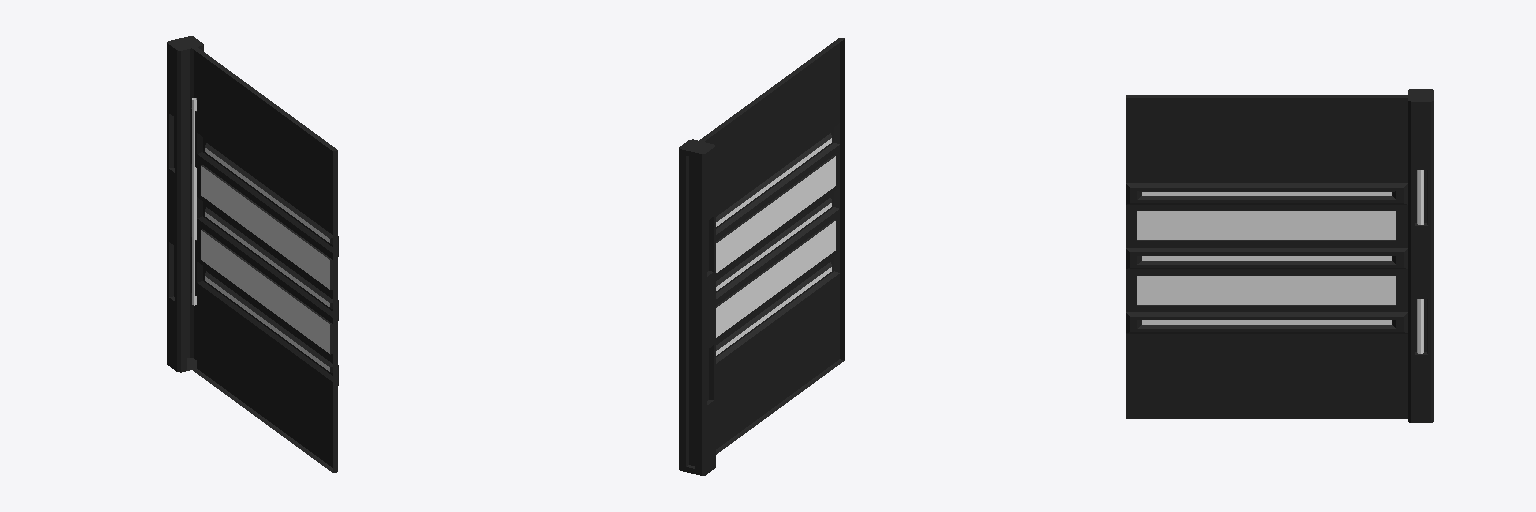
The model's file is Puertaizq.obj.
3 views of the same model, side by side, from view 1: azimuth 30°, elevation 25°; view 2: azimuth 150°, elevation 25°; view 3: azimuth 270°, elevation 25° (orthographic).
Visible parts, largest first — view 1: polySurface541; view 2: polySurface541; view 3: polySurface541.
Boxes of the visible parts, box(x1,y1,x2,y2) form: polySurface541: box(167, 36, 338, 472); polySurface541: box(679, 38, 844, 475); polySurface541: box(1126, 89, 1433, 422).
Bounding box in the file's own units: 0.2702 × 3.14 × 2.73.